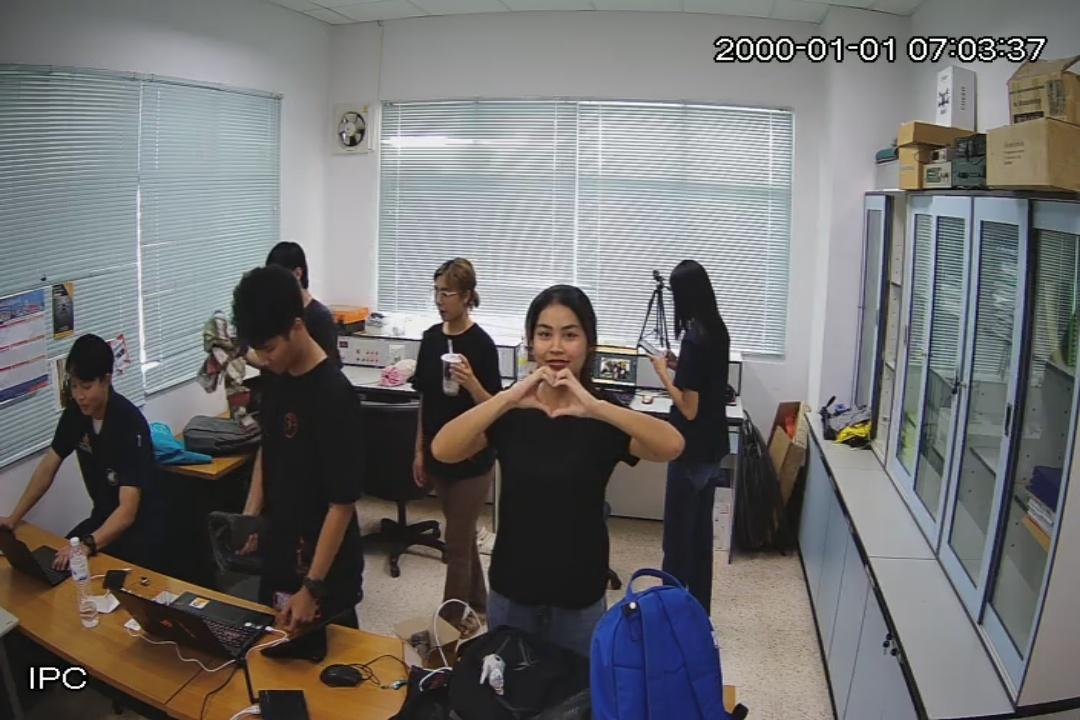normal: (434, 285, 682, 643), (219, 269, 361, 623), (0, 334, 165, 561), (646, 259, 729, 583), (419, 259, 491, 632)
